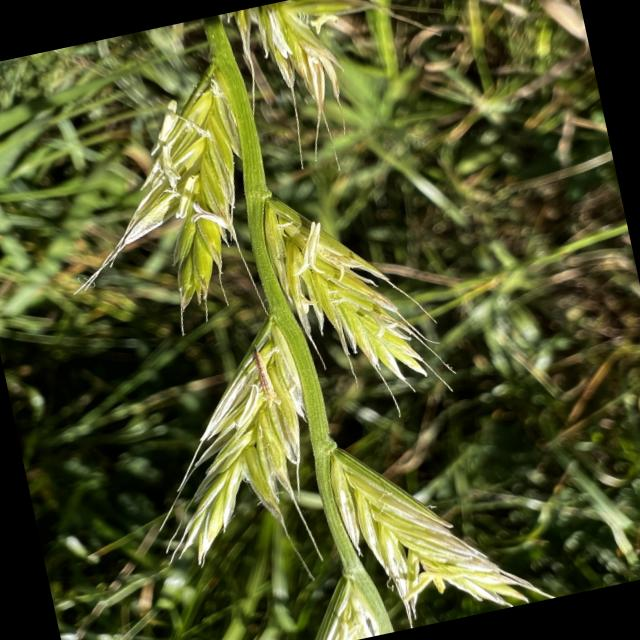Lolium: (25, 0, 554, 640)
